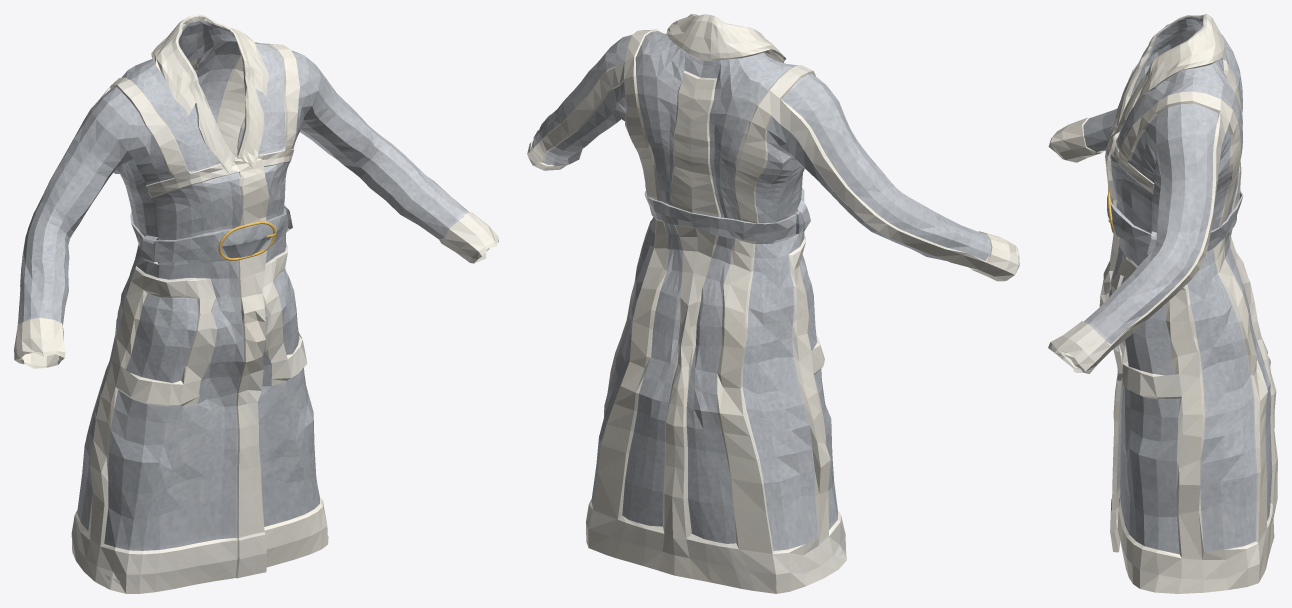
Rendered from mhw_punkduck_winter_coat.glb.
3 renders of one model, left to right at view 1: azimuth 30°, elevation 25°; view 2: azimuth 150°, elevation 25°; view 3: azimuth 270°, elevation 25°, orthographic. The views are drawn at different scales.
Parts seen in each view (by area): view 1: mhw_punkduck_winter_coat; view 2: mhw_punkduck_winter_coat; view 3: mhw_punkduck_winter_coat.
Part boxes in pixels (<box>): mhw_punkduck_winter_coat: <box>14,14,498,593</box>; mhw_punkduck_winter_coat: <box>527,14,1019,593</box>; mhw_punkduck_winter_coat: <box>1048,14,1277,593</box>.
Size of the model in its own units: 1.15 by 1.21 by 0.4807.
Materials: 1 (1 with a texture image).
